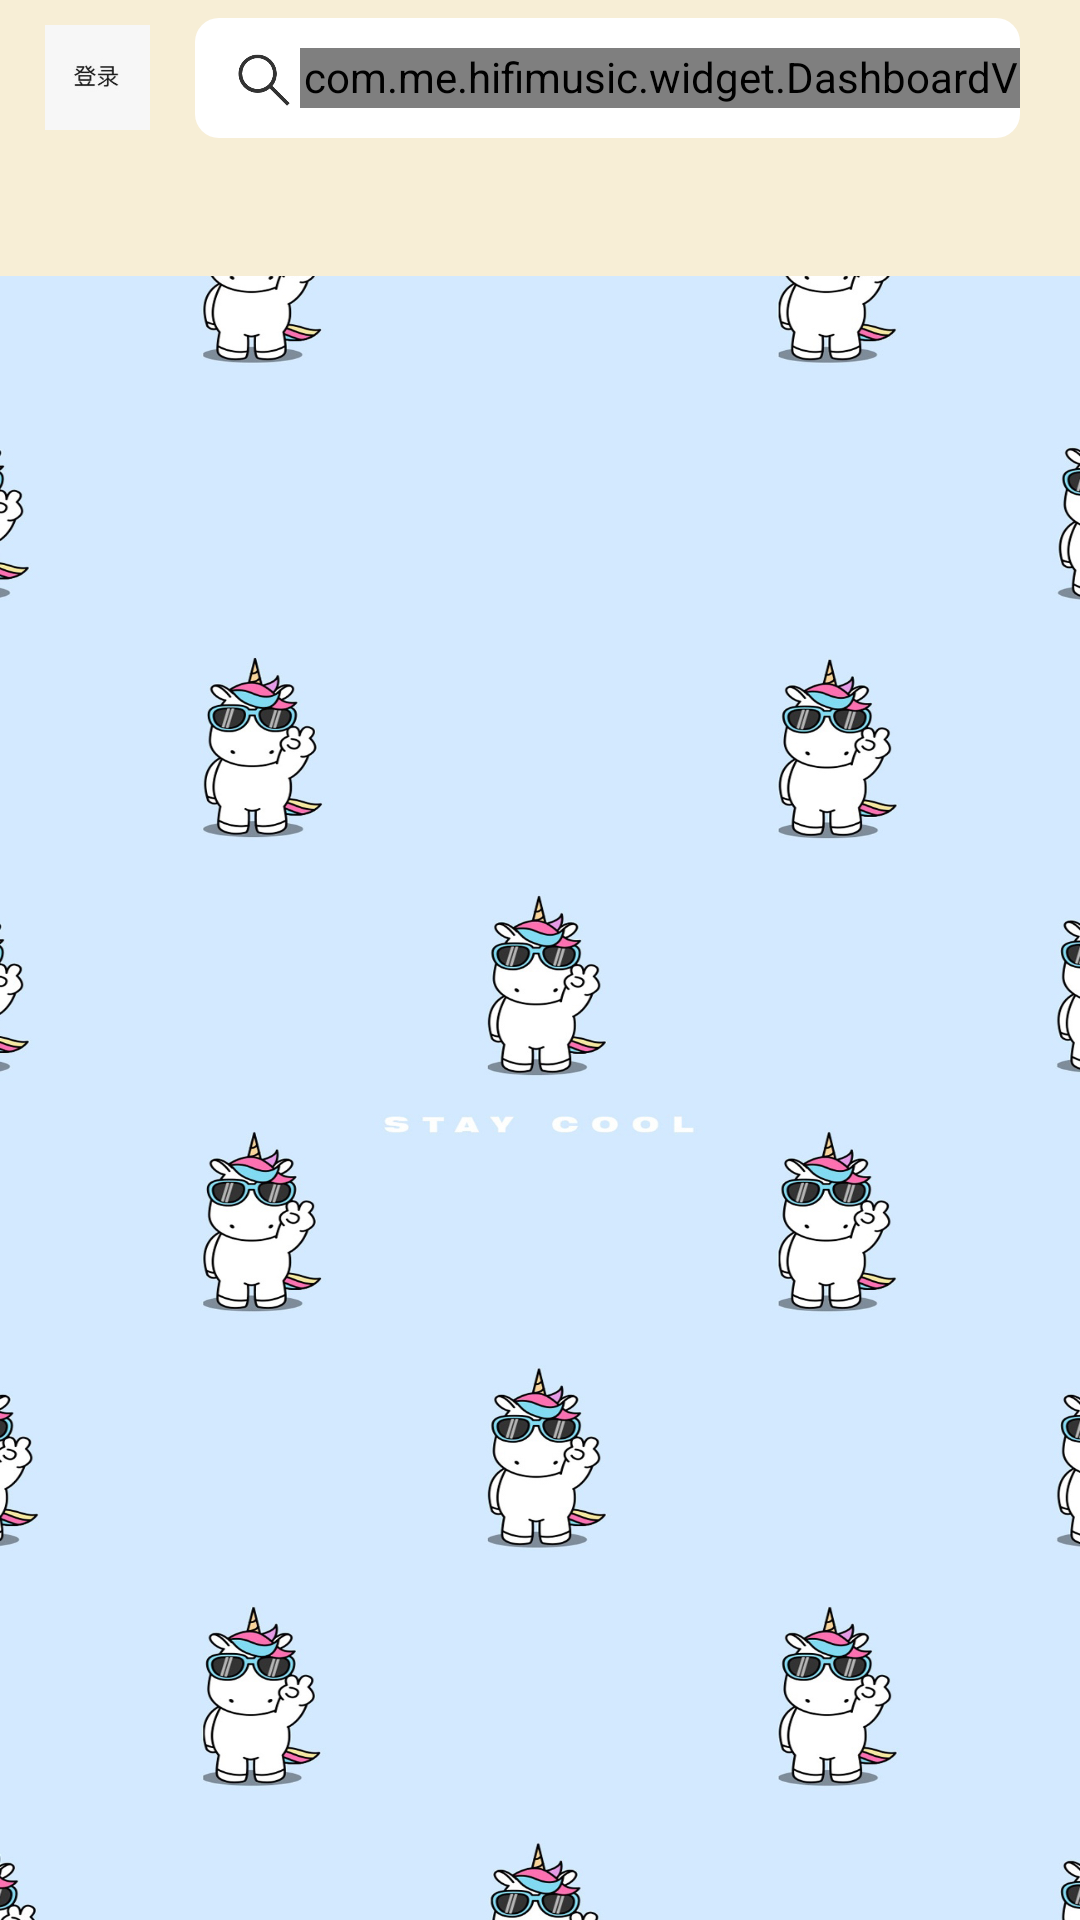

Named icons in this screenshot (1080px x 1920px) and their centers, (x=x, y=y):
search: (x=264, y=80)
